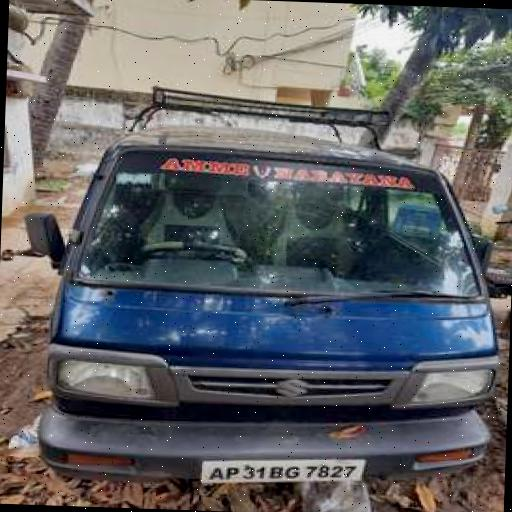license_plate`: (198, 451, 364, 488)
